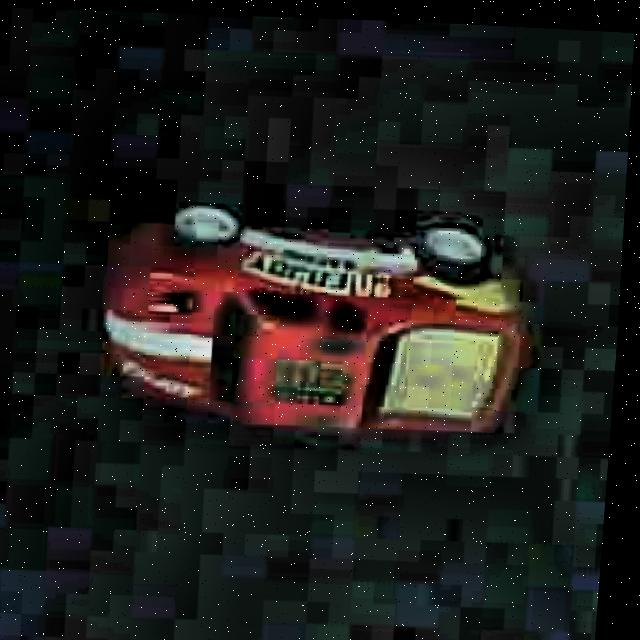car: (89, 183, 540, 455)
